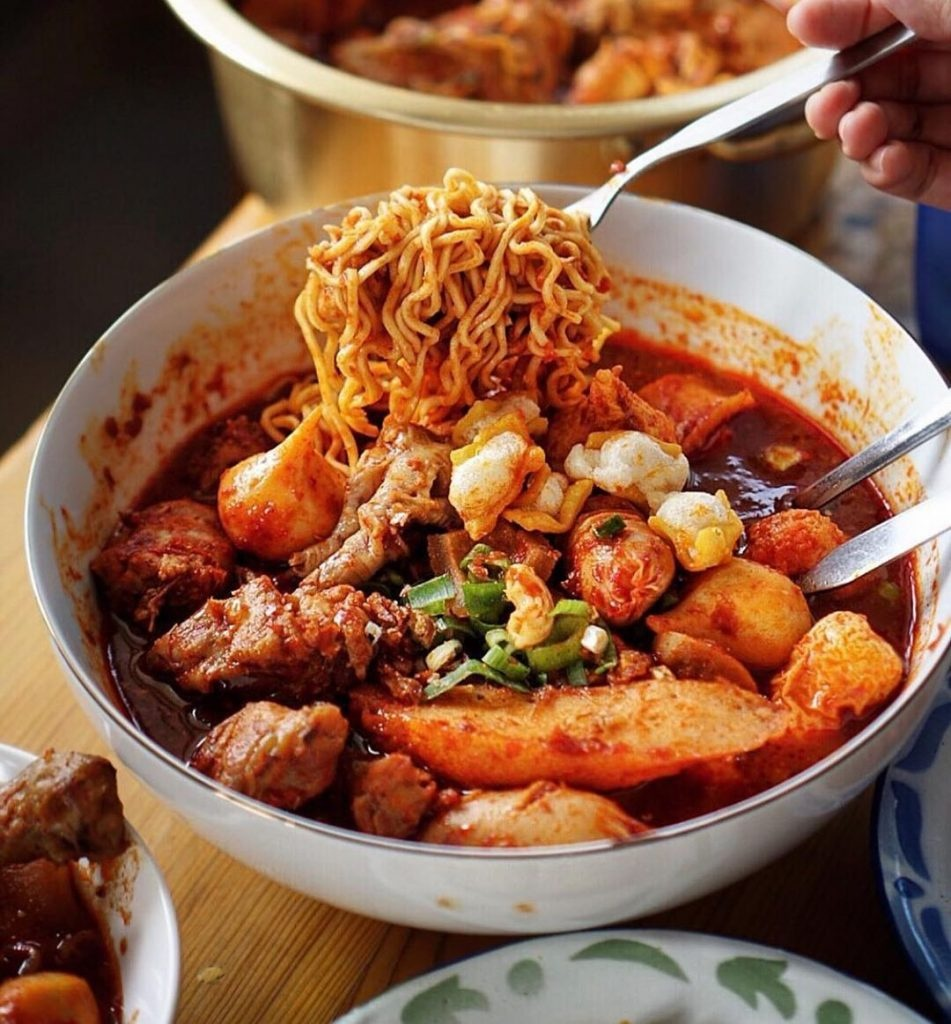seblak: (100, 177, 905, 848)
